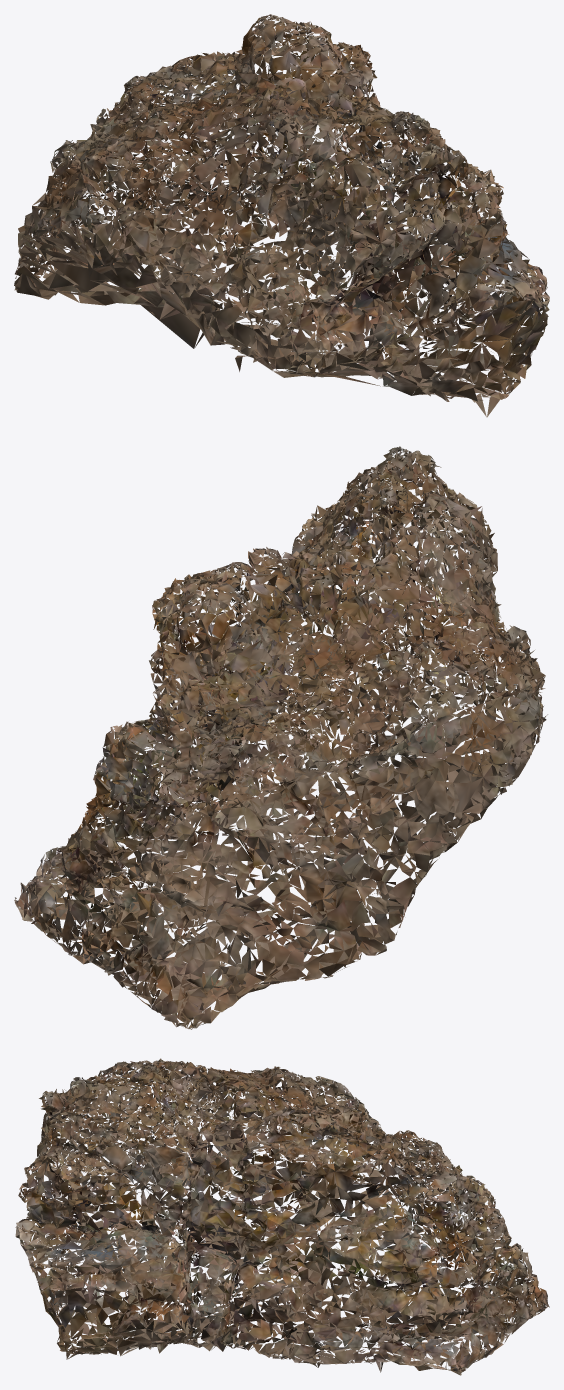
File: boulder_01.glb
The picture shows the model from 3 angles, top to bottom: view 1: azimuth 30°, elevation 25°; view 2: azimuth 150°, elevation 25°; view 3: azimuth 270°, elevation 25°; orthographic projection. The views are drawn at different scales.
Visible parts, largest first — view 1: boulder_01; view 2: boulder_01; view 3: boulder_01.
Boxes of the visible parts, <box> form: boulder_01: <box>14,14,549,417</box>; boulder_01: <box>14,446,547,1029</box>; boulder_01: <box>15,1058,549,1375</box>.
Size of the model in its own units: 1.28 by 1.01 by 1.84.
Materials: 1 (1 with a texture image).
